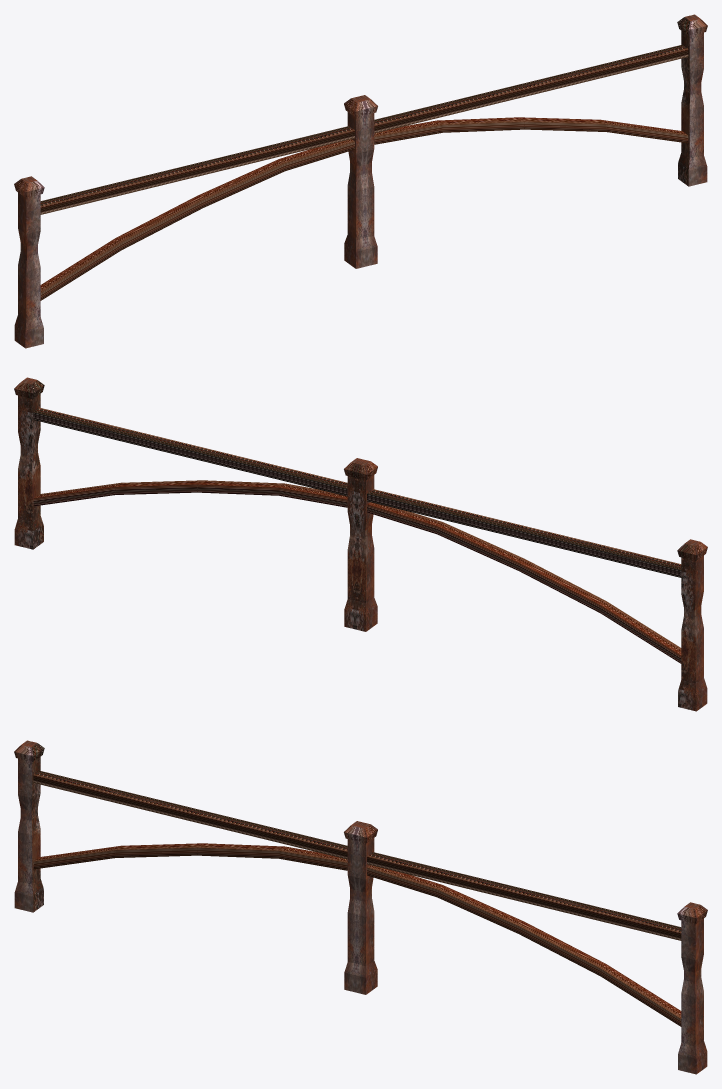
The model's file is Stop_Door.fbx.
3 renders of one model, top to bottom at view 1: azimuth 30°, elevation 25°; view 2: azimuth 150°, elevation 25°; view 3: azimuth 330°, elevation 25°, orthographic.
Visible parts, largest first — view 1: Stop_Door_LOD0; view 2: Stop_Door_LOD0; view 3: Stop_Door_LOD0.
Boxes of the visible parts, x1,y1,x2,y2 form: Stop_Door_LOD0: (14,14,707,348); Stop_Door_LOD0: (14,377,707,711); Stop_Door_LOD0: (14,740,707,1074).
Size of what is drawn, in the model's own units: 2232 by 510 by 65.79.
